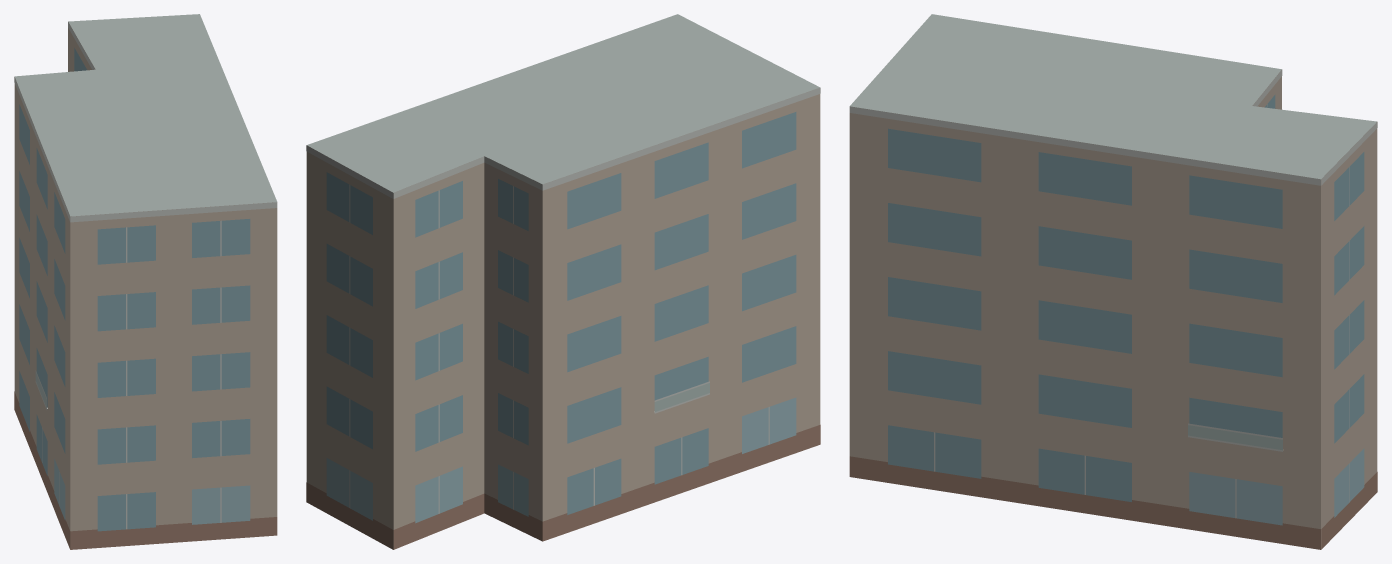
Rendered from survey-upis-32893421.glb.
3 views of the same model, side by side, from view 1: azimuth 30°, elevation 25°; view 2: azimuth 150°, elevation 25°; view 3: azimuth 270°, elevation 25° (orthographic). The views are drawn at different scales.
Visible parts, largest first — view 1: survey-upis-32893421.tmp; view 2: survey-upis-32893421.tmp; view 3: survey-upis-32893421.tmp.
Boxes of the visible parts, <box> form: survey-upis-32893421.tmp: <box>14,14,277,549</box>; survey-upis-32893421.tmp: <box>306,14,820,549</box>; survey-upis-32893421.tmp: <box>849,14,1377,549</box>.
Size of the model in its own units: 13.21 by 13.8 by 17.82.
